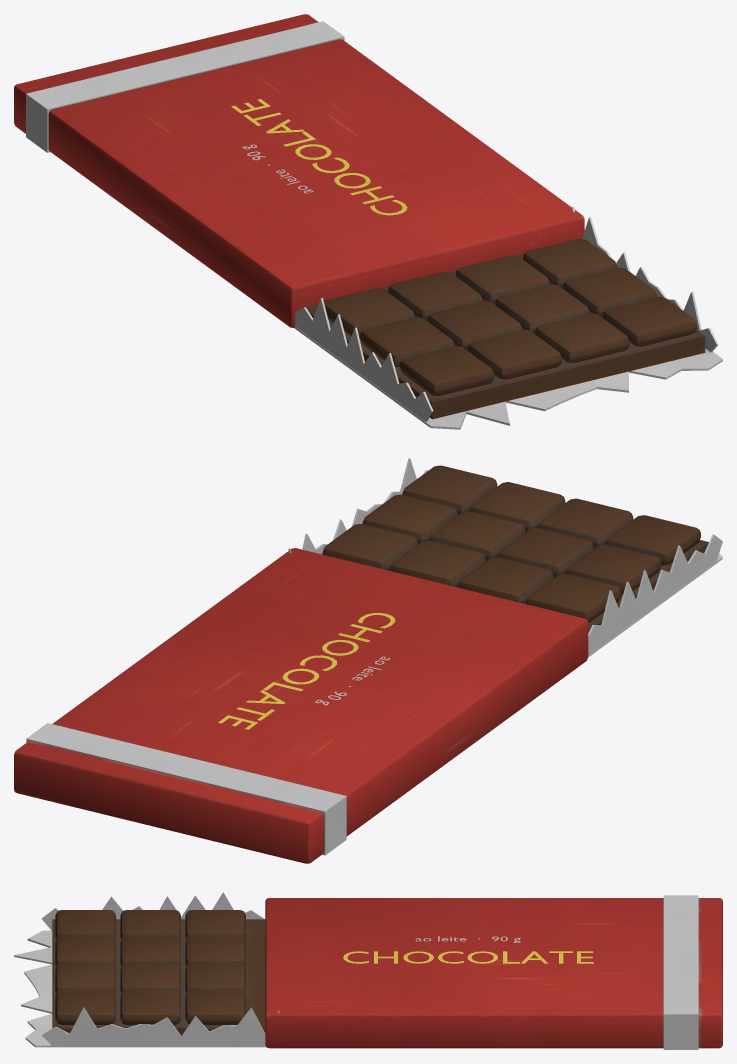
File: barra_chocolate.glb
3 views of the same model, one above another, from view 1: azimuth 30°, elevation 25°; view 2: azimuth 150°, elevation 25°; view 3: azimuth 270°, elevation 25° (orthographic). The views are drawn at different scales.
Parts seen in each view (by area): view 1: capa, chocolate, folha, letras; view 2: capa, chocolate, folha, letras; view 3: capa, chocolate, folha, letras.
Boxes of the visible parts, box(x1,y1,x2,y2) form: capa: box(14, 14, 584, 327); chocolate: box(302, 238, 705, 419); folha: box(294, 206, 722, 429); letras: box(231, 99, 407, 215); capa: box(14, 548, 588, 863); chocolate: box(322, 465, 708, 632); folha: box(288, 458, 722, 657); letras: box(218, 613, 395, 729); capa: box(265, 895, 722, 1049); chocolate: box(52, 910, 265, 1035); folha: box(14, 892, 279, 1047); letras: box(343, 936, 593, 963).
Size of the model in its own units: 0.0806 by 0.013 by 0.2029.
1 material, 1 textured.
